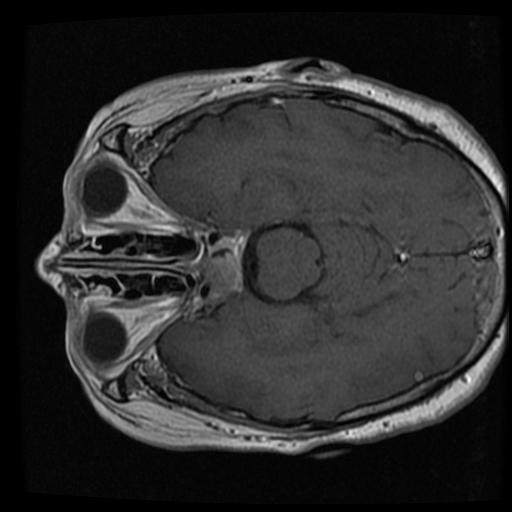pituitary tumour: (196, 254, 240, 301)
